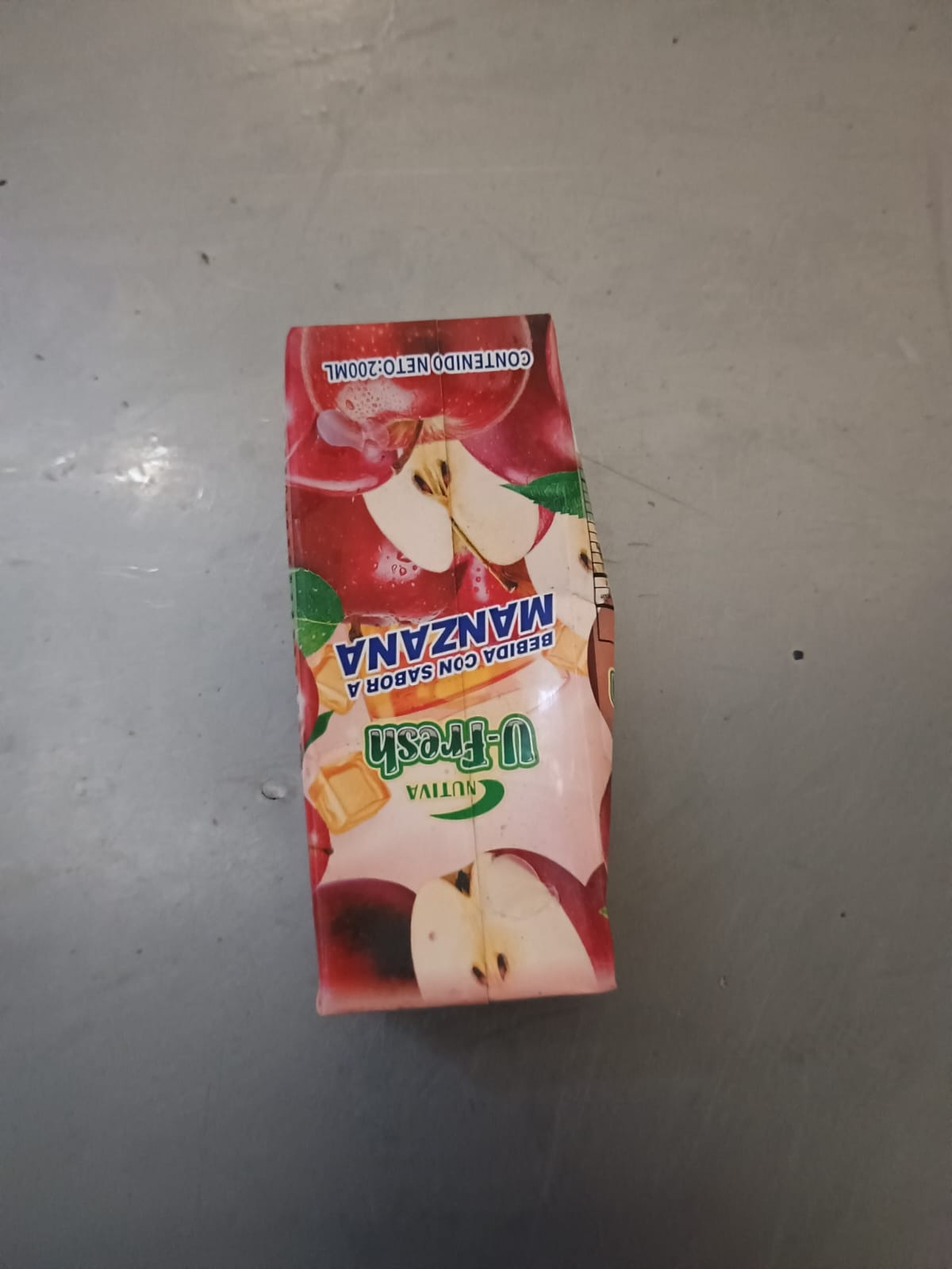Carton: (285, 315, 618, 1014)
